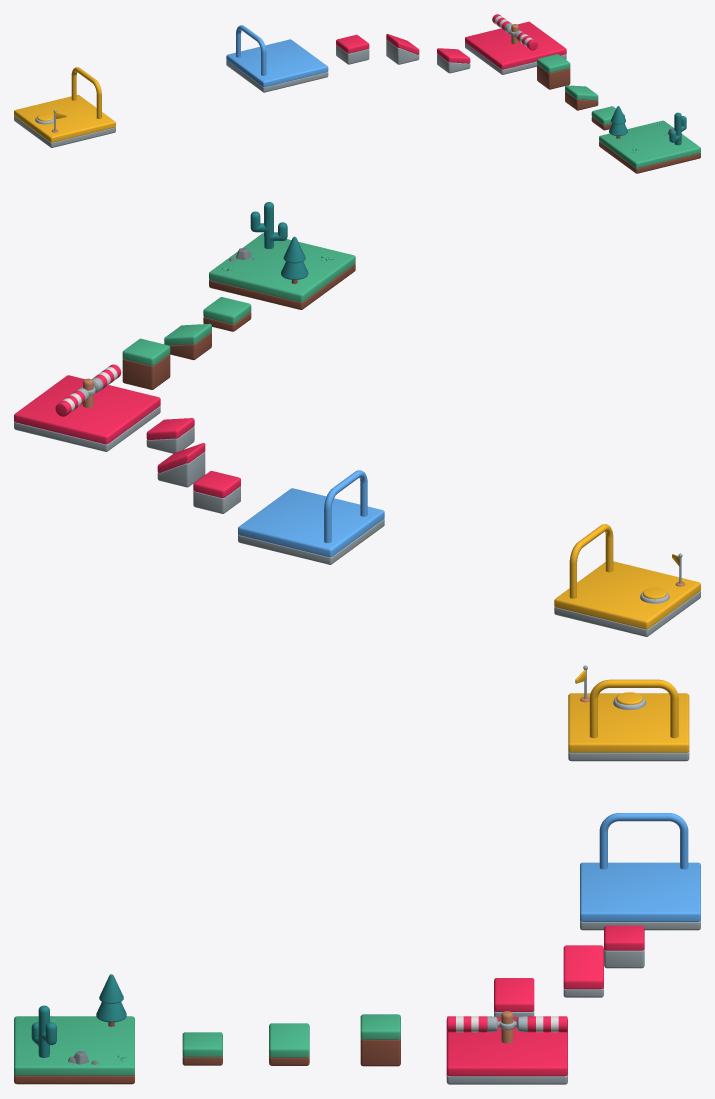
The model's file is playground.glb.
3 views of the same model, one above another, from view 1: azimuth 30°, elevation 25°; view 2: azimuth 150°, elevation 25°; view 3: azimuth 270°, elevation 25° (orthographic). The views are drawn at different scales.
Visible parts, largest first — view 1: tileLarge_teamBlue, tileLarge_forest, tileLarge_teamYellow, tileLarge_teamRed, tileHigh_forest, tileMedium_teamRed, tileSlopeLowHigh_teamRed, tileSlopeLowMedium_forest, tileSlopeLowMedium._teamRed, swiperDouble_teamRed, gateLargeWide_teamYellow, gateLargeWide_teamBlue (+3 smaller); view 2: tileLarge_teamBlue, tileLarge_teamYellow, tileLarge_teamRed, tileLarge_forest, tileHigh_forest, tileMedium_teamRed, tileSlopeLowHigh_teamRed, tileSlopeLowMedium._teamRed, tileSlopeLowMedium_forest, tileLow_forest, swiperDouble_teamRed, gateLargeWide_teamYellow (+3 smaller); view 3: tileLarge_teamBlue, tileLarge_teamYellow, tileLarge_forest, tileLarge_teamRed, tileSlopeLowHigh_teamRed, swiperDouble_teamRed, tileHigh_forest, tileMedium_teamRed, tileSlopeLowMedium_forest, gateLargeWide_teamYellow, gateLargeWide_teamBlue, tileSlopeLowMedium._teamRed (+3 smaller).
Boxes of the visible parts, box(x1,y1,x2,y2) form: tileLarge_teamBlue: box(226, 39, 328, 92); tileLarge_forest: box(599, 120, 700, 173); tileLarge_teamYellow: box(14, 95, 115, 147); tileLarge_teamRed: box(465, 21, 566, 74); tileHigh_forest: box(537, 54, 570, 89); tileMedium_teamRed: box(336, 34, 369, 64); tileSlopeLowHigh_teamRed: box(386, 34, 419, 64); tileSlopeLowMedium_forest: box(565, 85, 598, 110); tileSlopeLowMedium._teamRed: box(437, 48, 470, 73); swiperDouble_teamRed: box(492, 14, 537, 50); gateLargeWide_teamYellow: box(71, 67, 101, 118); gateLargeWide_teamBlue: box(236, 25, 266, 75); tileLarge_teamBlue: box(238, 488, 384, 564); tileLarge_teamYellow: box(554, 561, 700, 636); tileLarge_teamRed: box(14, 375, 160, 451); tileLarge_forest: box(209, 233, 355, 309); tileHigh_forest: box(122, 338, 170, 389); tileMedium_teamRed: box(193, 471, 240, 513); tileSlopeLowHigh_teamRed: box(157, 443, 205, 487); tileSlopeLowMedium._teamRed: box(146, 418, 194, 453); tileSlopeLowMedium_forest: box(164, 323, 211, 360); tileLow_forest: box(203, 297, 251, 331); swiperDouble_teamRed: box(55, 364, 121, 416); gateLargeWide_teamYellow: box(569, 524, 613, 598); tileLarge_teamBlue: box(580, 862, 700, 930); tileLarge_teamYellow: box(568, 693, 689, 761); tileLarge_forest: box(14, 1016, 134, 1084); tileLarge_teamRed: box(446, 1017, 567, 1084); tileSlopeLowHigh_teamRed: box(563, 945, 603, 997); swiperDouble_teamRed: box(447, 1011, 567, 1043); tileHigh_forest: box(360, 1014, 400, 1066); tileMedium_teamRed: box(604, 925, 644, 968); tileSlopeLowMedium_forest: box(269, 1023, 309, 1065); gateLargeWide_teamYellow: box(589, 679, 678, 738); gateLargeWide_teamBlue: box(599, 813, 688, 869); tileSlopeLowMedium._teamRed: box(494, 978, 534, 1016).
Size of the model in its own units: 43.92 by 4.08 by 34.03.
